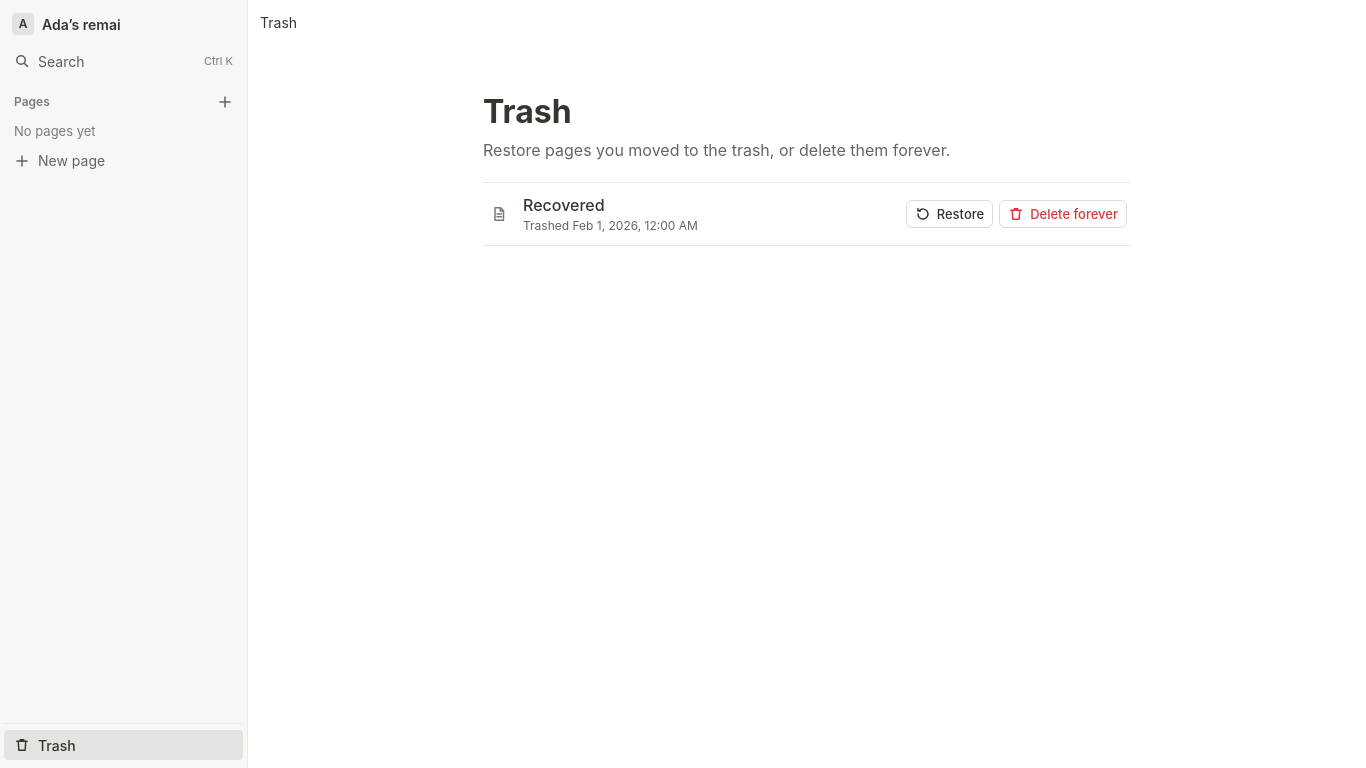
it: Trash in clients › Restore brings the page back into the tree
The width and height of the screenshot is (1366, 768).
Click the button with aria-label "Restore Recovered" at [949, 214], box left=906, top=200, right=993, bottom=228
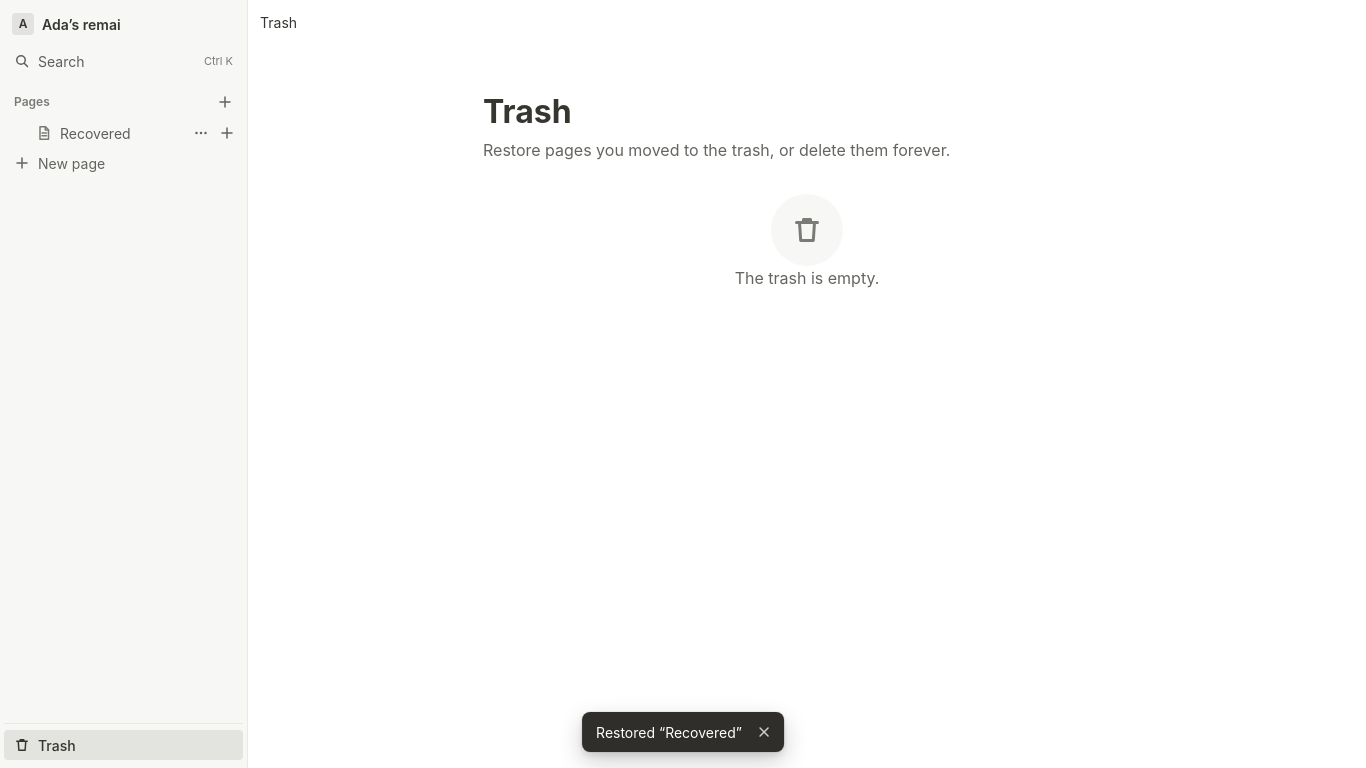
Expected: the link "Recovered" is shown, left=36, top=124, right=131, bottom=142
